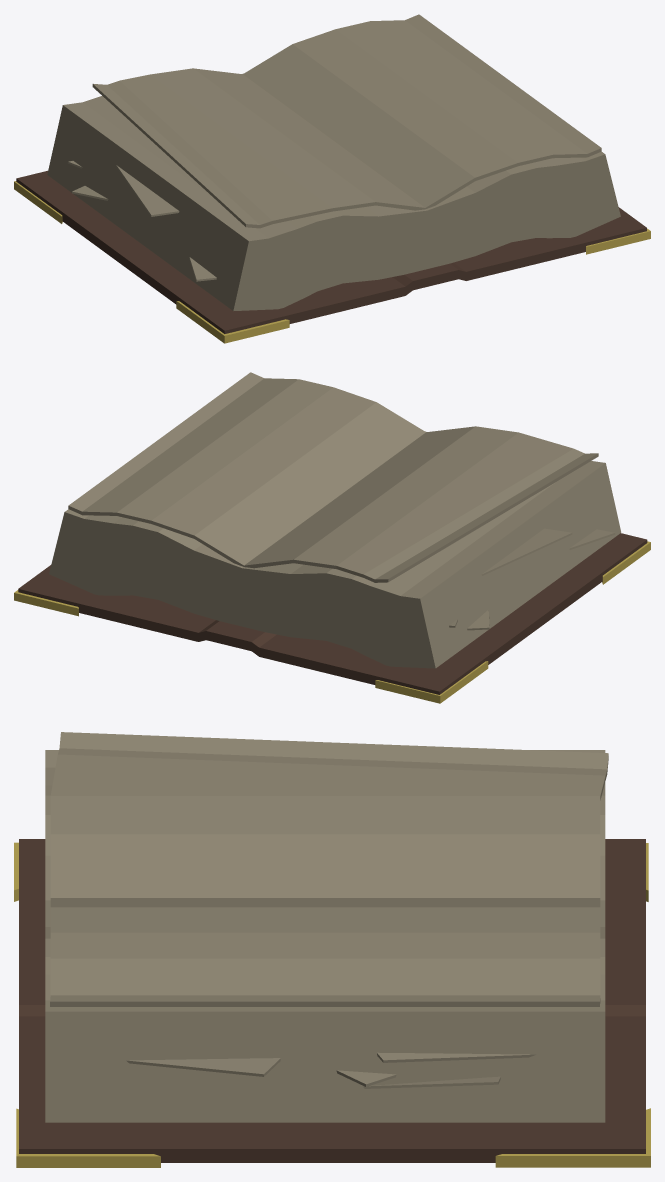
Rendered from book.glb.
The picture shows the model from 3 angles, top to bottom: view 1: azimuth 30°, elevation 25°; view 2: azimuth 150°, elevation 25°; view 3: azimuth 270°, elevation 25°; orthographic projection. The views are drawn at different scales.
Parts seen in each view (by area): view 1: Book3_Open; view 2: Book3_Open; view 3: Book3_Open.
Part boxes in pixels (x1,y1,x2,y2): Book3_Open: (14, 14, 650, 343); Book3_Open: (14, 372, 650, 703); Book3_Open: (14, 732, 650, 1167).
Size of the model in its own units: 87.66 by 19.45 by 75.21.
